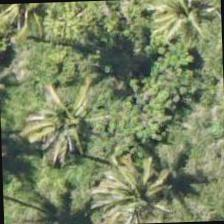Kelapa_Sawit: (0, 63, 89, 157), (79, 165, 172, 223), (126, 0, 219, 52)
